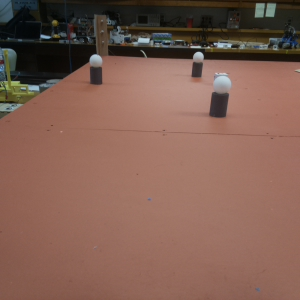corner: (94, 15, 108, 54)
obstacle: (208, 77, 229, 115), (89, 55, 103, 84), (192, 51, 204, 78)
